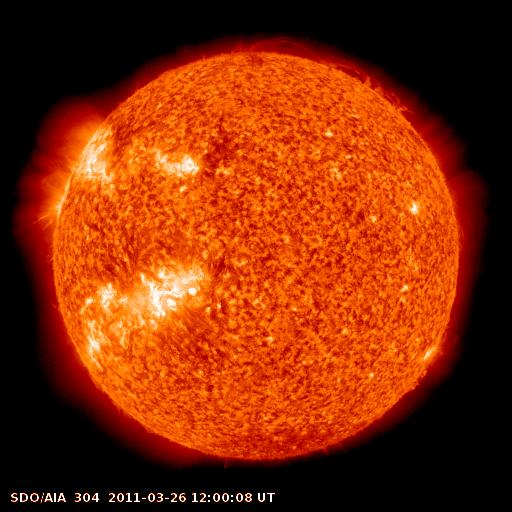prominence: (326, 51, 417, 123), (224, 27, 320, 70)
